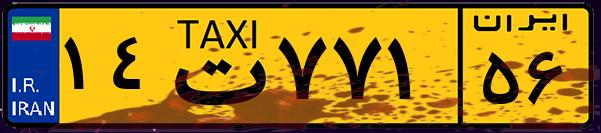1: (385, 28, 445, 110), (57, 26, 110, 100)
4: (110, 28, 158, 98)
5: (475, 38, 525, 113)
6: (525, 38, 570, 115)
7: (270, 28, 330, 110), (330, 28, 385, 110)
ت: (158, 12, 270, 120)
